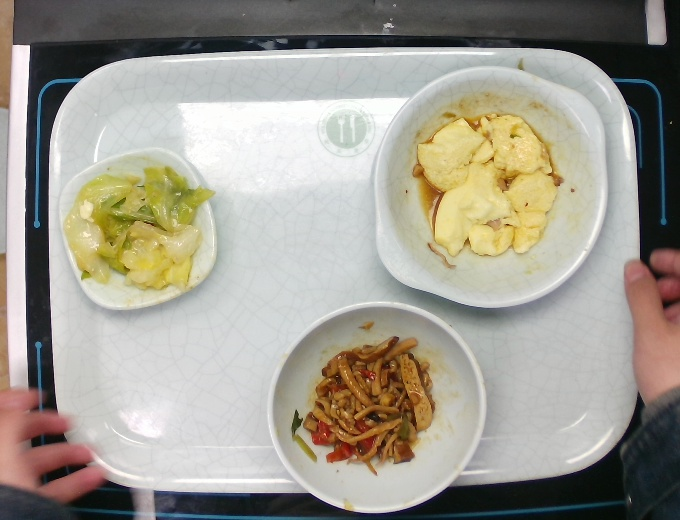JYsf-Fan_Wan: (262, 297, 493, 518)
JYsf-Shuang_Er_Wan: (364, 61, 612, 311)
JYsf-Si_Fang_Die: (52, 140, 225, 310)
